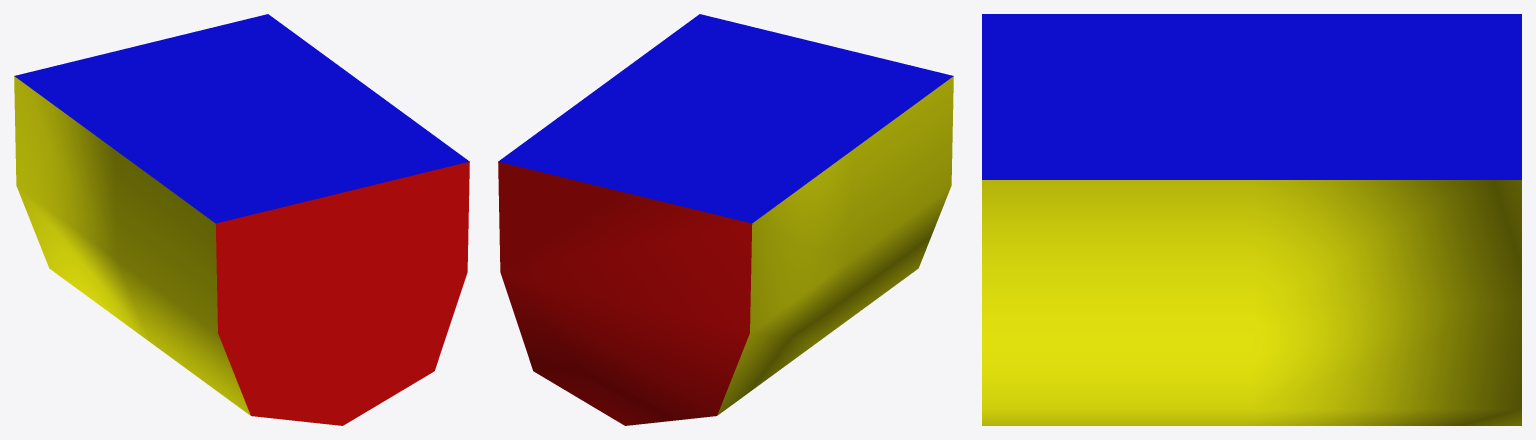
3 views of the same model, side by side, from view 1: azimuth 30°, elevation 25°; view 2: azimuth 150°, elevation 25°; view 3: azimuth 270°, elevation 25° (orthographic). The views are drawn at different scales.
Parts seen in each view (by area): view 1: polySurface101; view 2: polySurface101; view 3: polySurface101.
Boxes of the visible parts, x1=… form: polySurface101: x1=14, y1=14, x2=469, y2=425; polySurface101: x1=498, y1=14, x2=953, y2=425; polySurface101: x1=982, y1=14, x2=1521, y2=425.
Bounding box in the file's own units: 23.58 × 20.7 × 32.42.
